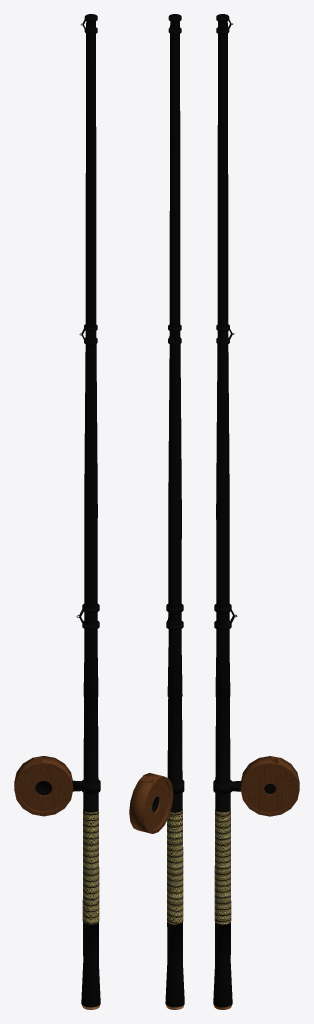
Rendered from Rod.fbx.
3 renders of one model, left to right at view 1: azimuth 90°, elevation 25°; view 2: azimuth 150°, elevation 25°; view 3: azimuth 270°, elevation 25°, orthographic.
Parts seen in each view (by area): view 1: Rod, Coil, Cylinder; view 2: Rod, Coil, Cylinder, Cylinder_002; view 3: Rod, Coil, Cylinder.
Boxes of the visible parts, left/top/right/bottom form: Rod: left=81, top=21, right=100, bottom=1009; Coil: left=14, top=756, right=100, bottom=816; Cylinder: left=76, top=604, right=99, bottom=629; Rod: left=165, top=21, right=184, bottom=1009; Coil: left=129, top=773, right=184, bottom=833; Cylinder: left=166, top=604, right=183, bottom=630; Cylinder_002: left=168, top=14, right=181, bottom=34; Rod: left=213, top=21, right=232, bottom=1009; Coil: left=213, top=756, right=299, bottom=816; Cylinder: left=214, top=604, right=237, bottom=630.
Size of the model in its own units: 20.25 by 1138 by 90.1.
5 materials, 3 textured.
